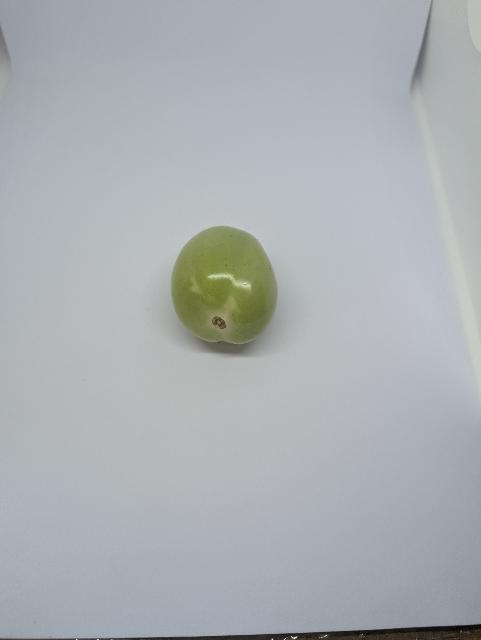green: (155, 212, 292, 369)
